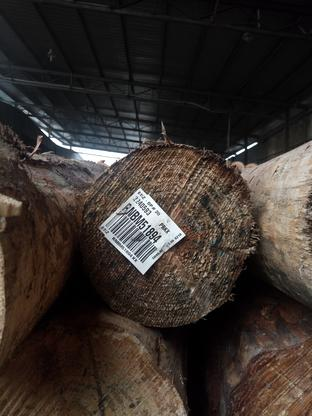mood: (81, 143, 256, 330)
